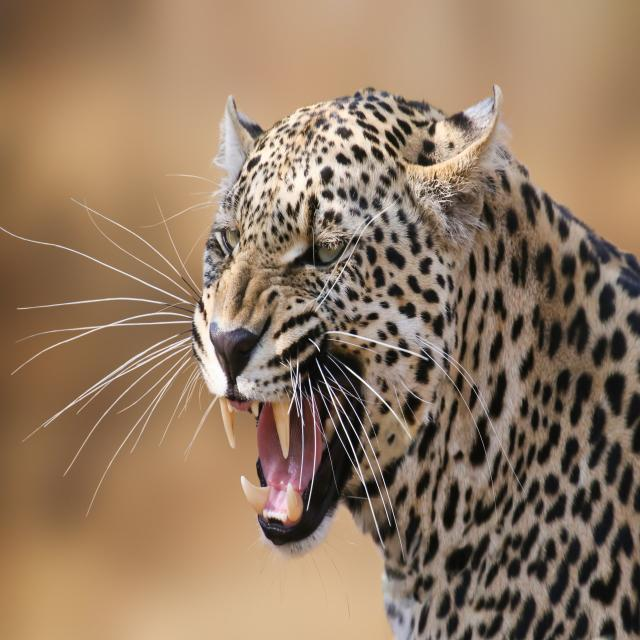Leopard: (193, 91, 640, 640)
